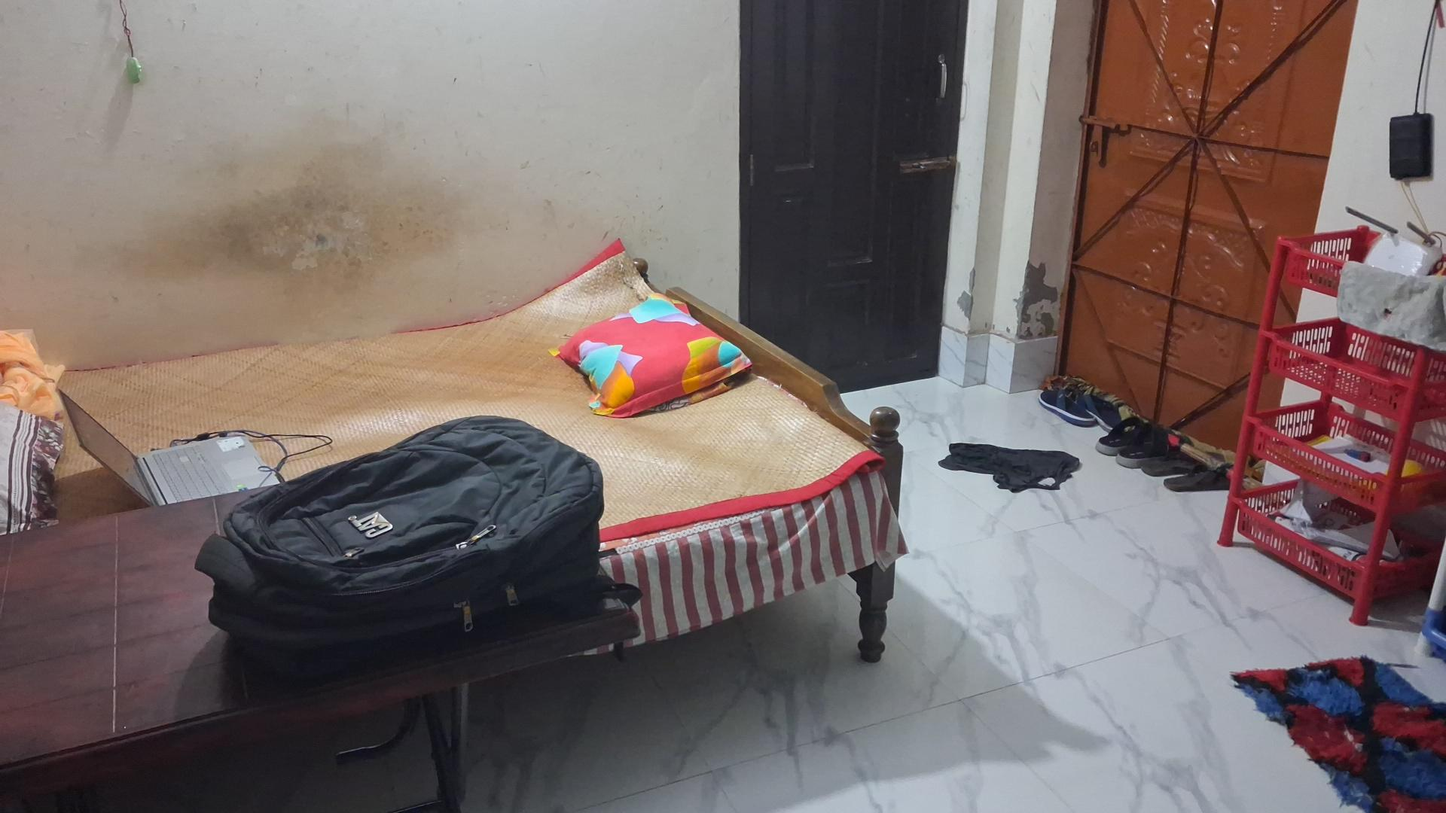Bag: (197, 425, 633, 628)
Door: (1056, 151, 1312, 446), (740, 167, 969, 385)
Floor Mat: (1230, 628, 1446, 813)
Footwear: (1033, 374, 1121, 433), (1142, 451, 1223, 498), (1097, 415, 1173, 464)
Laptop: (56, 386, 325, 508)
Pillow: (554, 300, 754, 425)
Rack: (1232, 203, 1446, 621)
Table: (0, 485, 649, 798)
